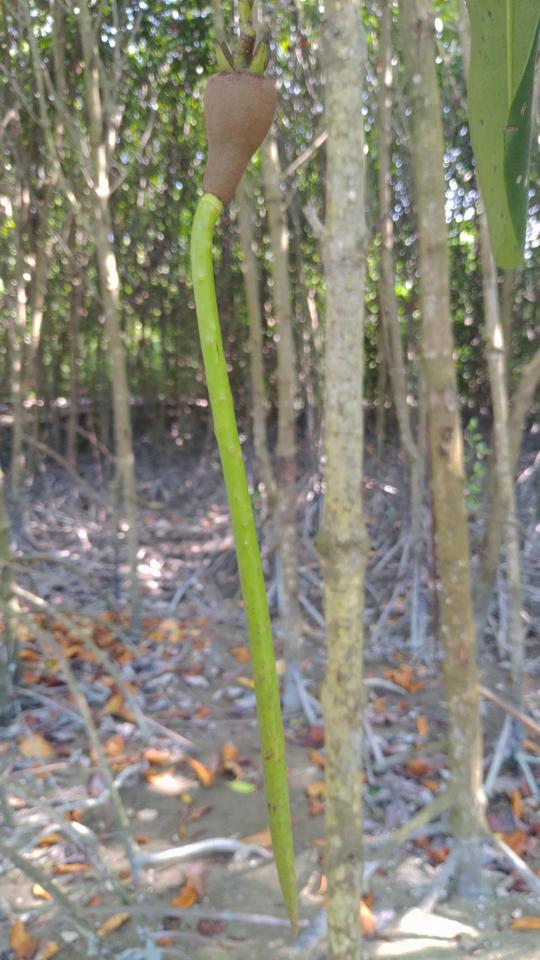setengah matang: (180, 27, 324, 947)
